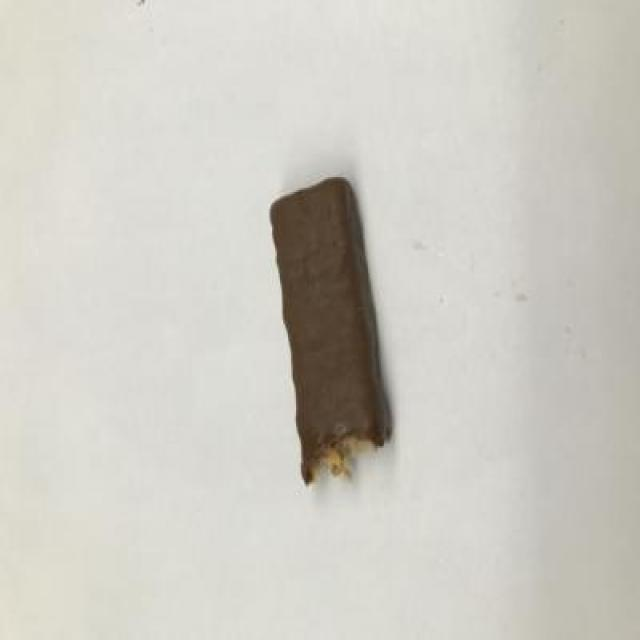compost: (244, 162, 438, 501)
